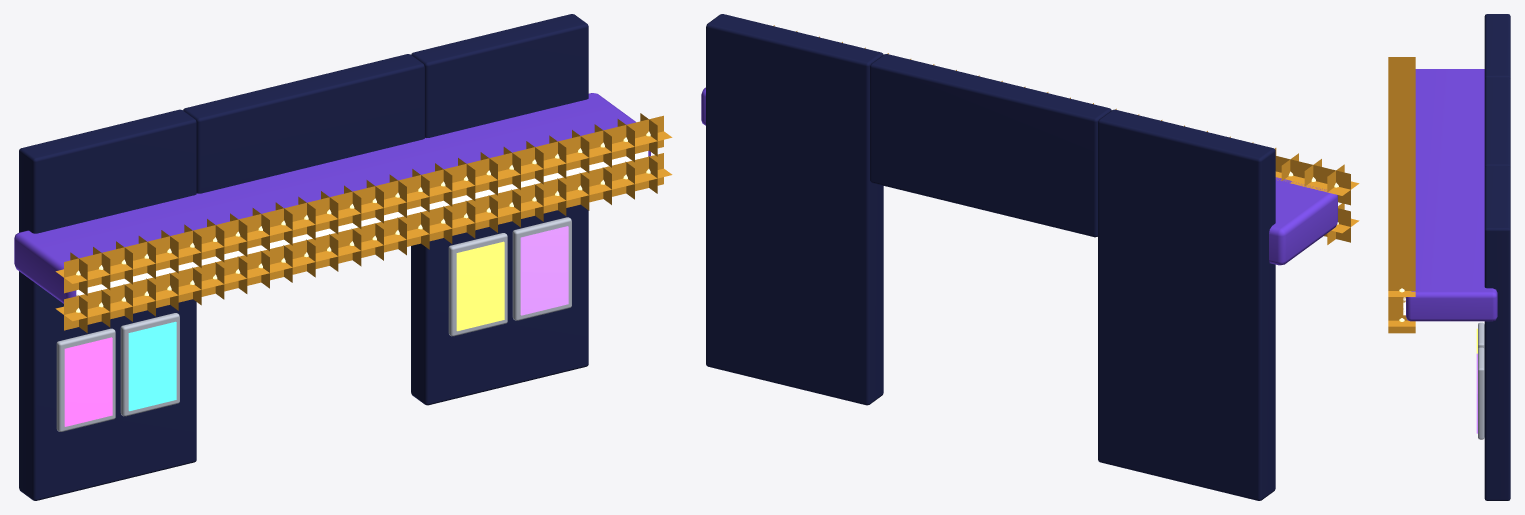
Rendered from mall_cinema_doors.glb.
The picture shows the model from 3 angles, left to right: view 1: azimuth 30°, elevation 25°; view 2: azimuth 150°, elevation 25°; view 3: azimuth 270°, elevation 25°; orthographic projection. The views are drawn at different scales.
Parts seen in each view (by area): view 1: CinemaDoors; view 2: CinemaDoors; view 3: CinemaDoors.
Boxes of the visible parts, left/top/right/bottom form: CinemaDoors: left=14, top=14, right=672, bottom=500; CinemaDoors: left=701, top=14, right=1359, bottom=500; CinemaDoors: left=1388, top=14, right=1510, bottom=500.
Size of the model in its own units: 8.42 by 4.6 by 1.87.
